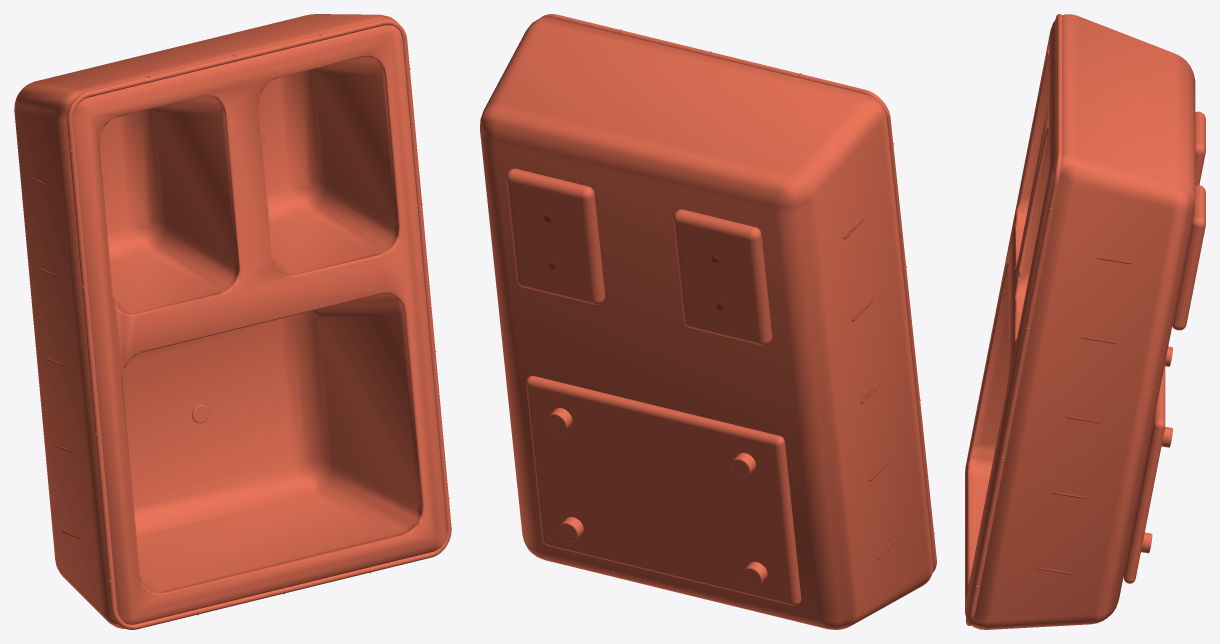
Rendered from lunchbox-tray-coral.glb.
3 views of the same model, side by side, from view 1: azimuth 30°, elevation 25°; view 2: azimuth 150°, elevation 25°; view 3: azimuth 270°, elevation 25° (orthographic). The views are drawn at different scales.
Visible parts, largest first — view 1: lunchbox-tray-coral-body, lunchbox-tray-coral-rolled-outer-lip; view 2: lunchbox-tray-coral-body, lunchbox-tray-coral-underside-plate, lunchbox-tray-coral-underside-pad--1, lunchbox-tray-coral-underside-pad-1, lunchbox-tray-coral-rolled-outer-lip; view 3: lunchbox-tray-coral-body, lunchbox-tray-coral-rolled-outer-lip, lunchbox-tray-coral-underside-plate, lunchbox-tray-coral-underside-pad-1, lunchbox-tray-coral-underside-pad--1.
Boxes of the visible parts, x1,y1,x2,y2 form: lunchbox-tray-coral-body: [14, 14, 446, 628]; lunchbox-tray-coral-rolled-outer-lip: [67, 19, 451, 629]; lunchbox-tray-coral-body: [480, 17, 933, 629]; lunchbox-tray-coral-underside-plate: [526, 375, 801, 605]; lunchbox-tray-coral-underside-pad--1: [673, 209, 772, 345]; lunchbox-tray-coral-underside-pad-1: [506, 168, 605, 304]; lunchbox-tray-coral-rolled-outer-lip: [540, 14, 936, 572]; lunchbox-tray-coral-body: [965, 14, 1195, 629]; lunchbox-tray-coral-rolled-outer-lip: [966, 14, 1062, 625]; lunchbox-tray-coral-underside-plate: [1123, 363, 1165, 583]; lunchbox-tray-coral-underside-pad-1: [1172, 185, 1205, 330]; lunchbox-tray-coral-underside-pad--1: [1195, 111, 1205, 185].
Bounding box in the file's own units: 1.67 × 2.36 × 1.08.
